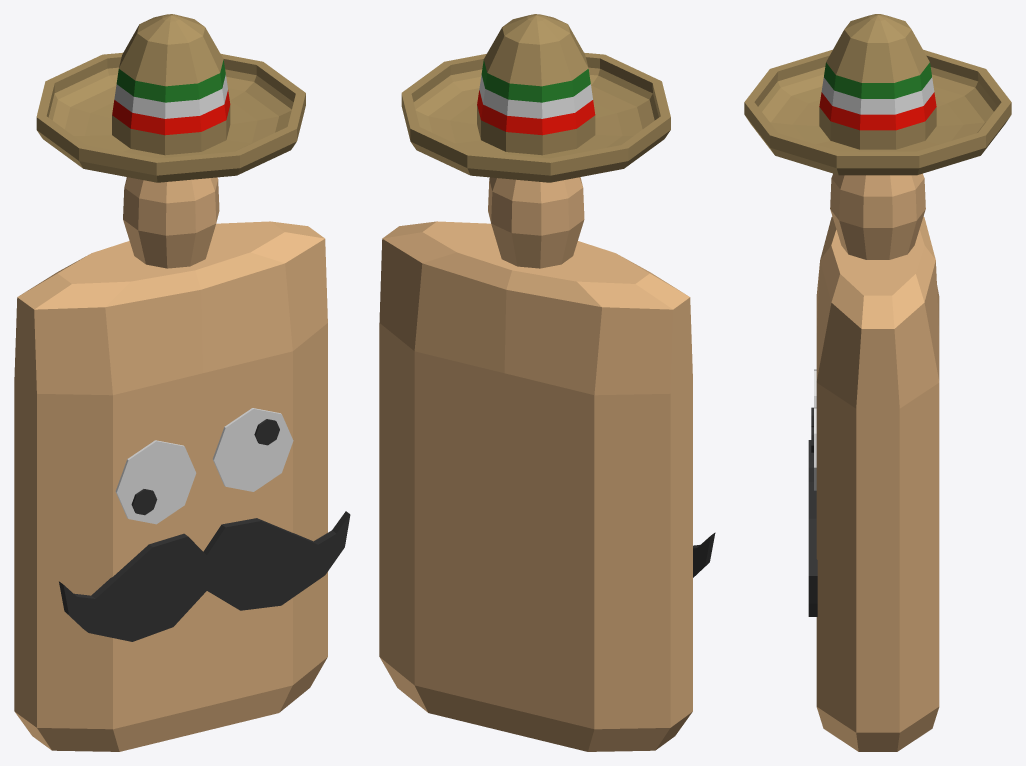
File: Tequila.fbx
The picture shows the model from 3 angles, left to right: view 1: azimuth 30°, elevation 25°; view 2: azimuth 150°, elevation 25°; view 3: azimuth 270°, elevation 25°; orthographic projection. The views are drawn at different scales.
Parts seen in each view (by area): view 1: Cylinder; view 2: Cylinder; view 3: Cylinder.
Boxes of the visible parts, x1,y1,x2,y2 form: Cylinder: (14, 14, 350, 751); Cylinder: (379, 14, 715, 751); Cylinder: (744, 14, 1011, 751).
Bounding box in the file's own units: 97.93 × 80.27 × 224.
